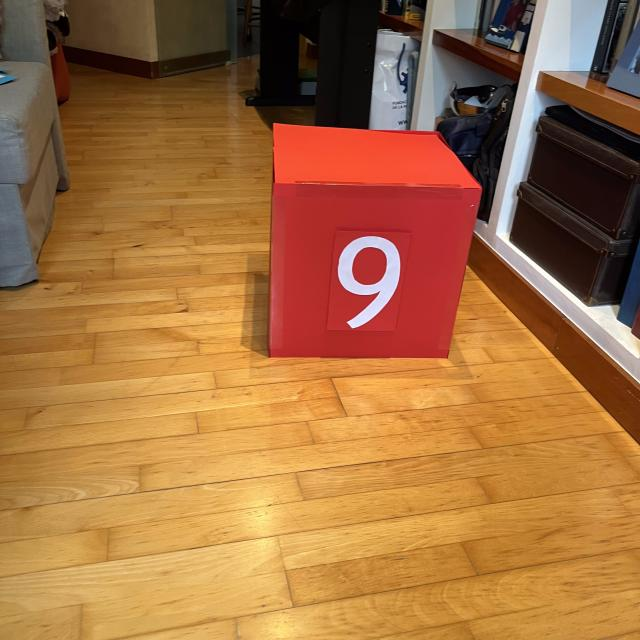box: (264, 120, 482, 360)
